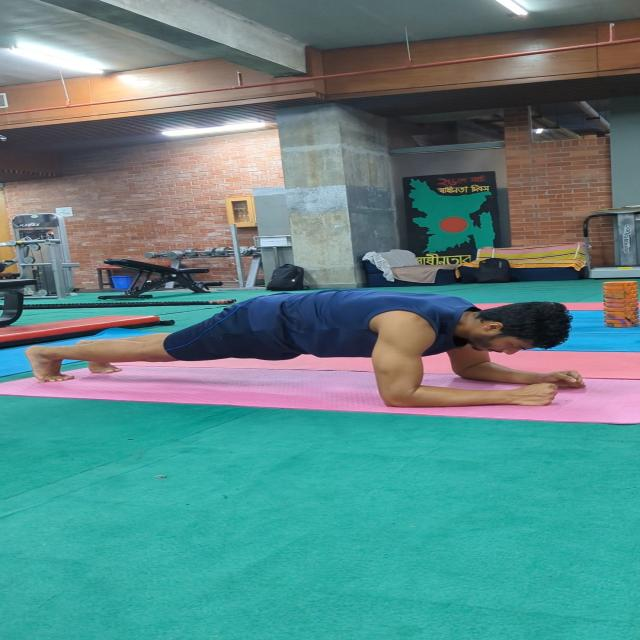Normal_Plunk: (22, 292, 624, 437)
